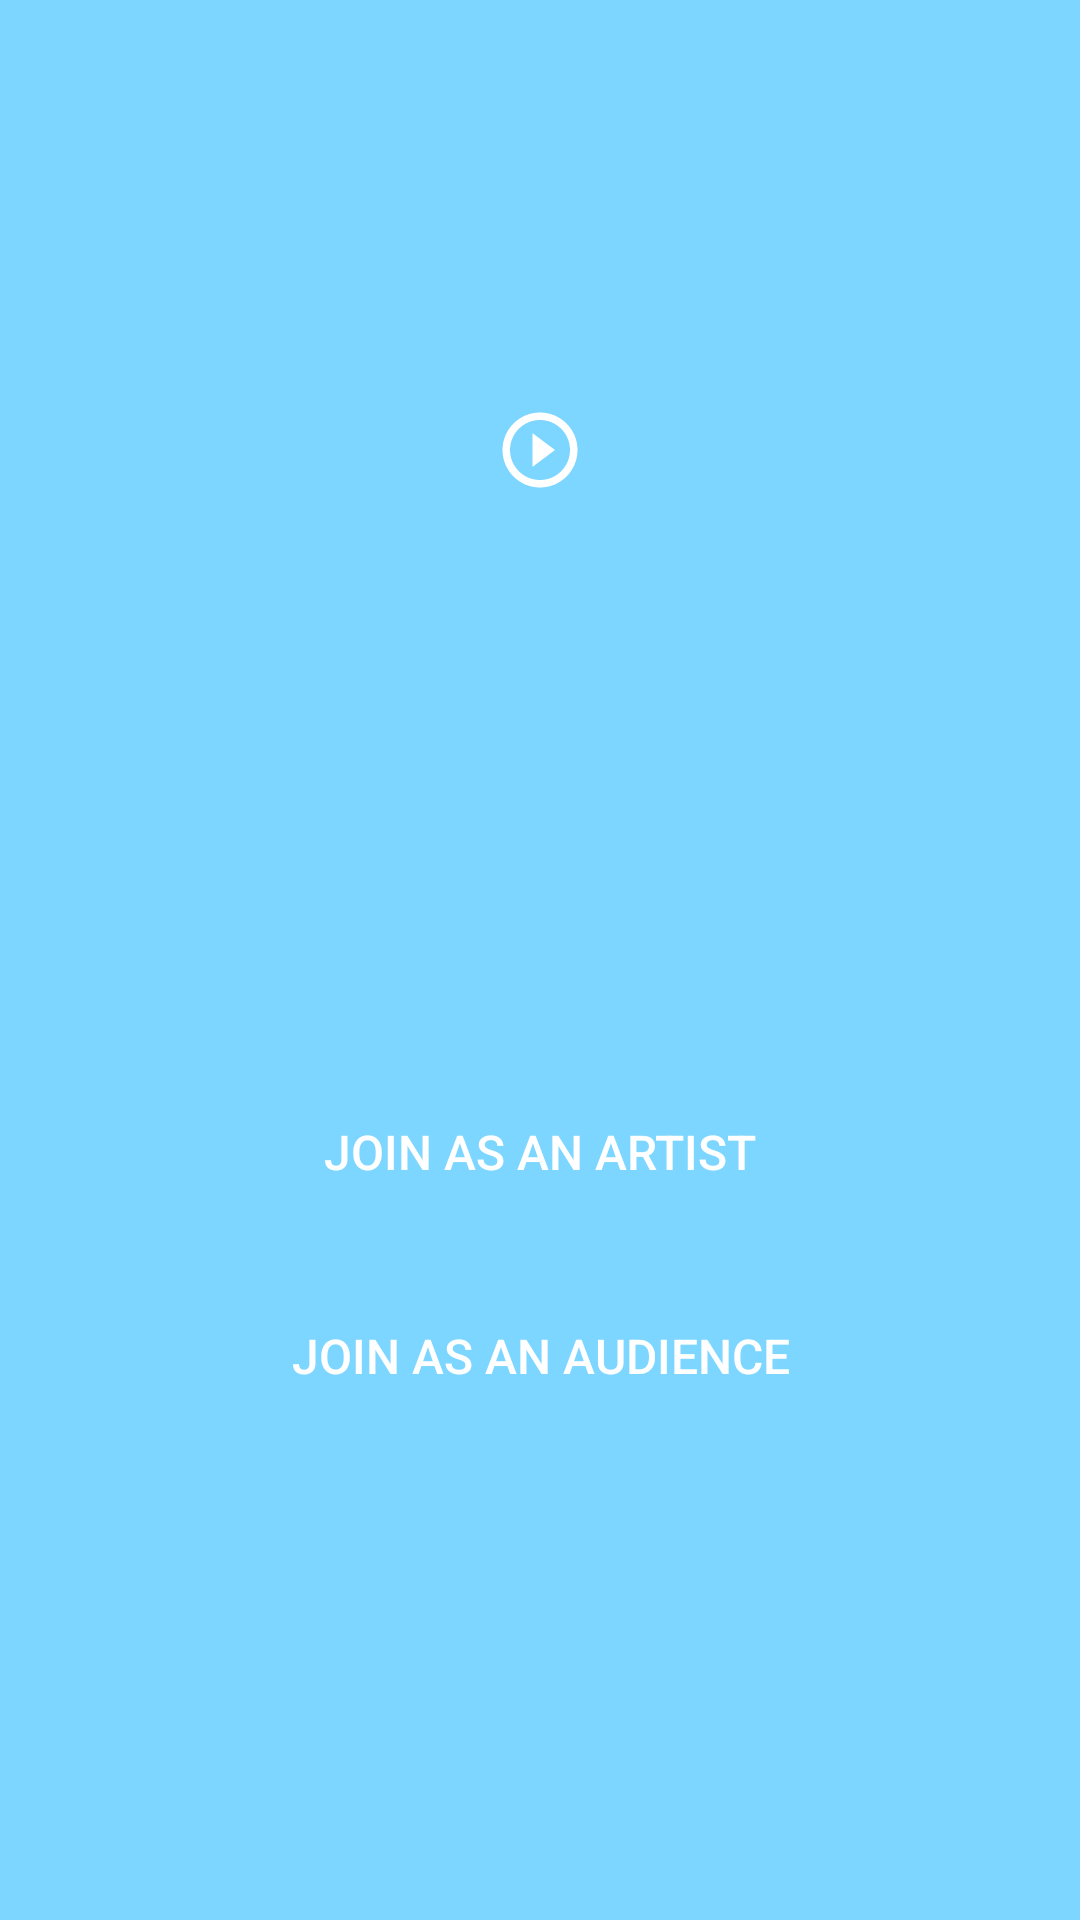

Icon bounding boxes for this 1080w x 1920h phone screenshot, format (x1, y1, x2, y2):
play: (502, 412, 578, 488)
